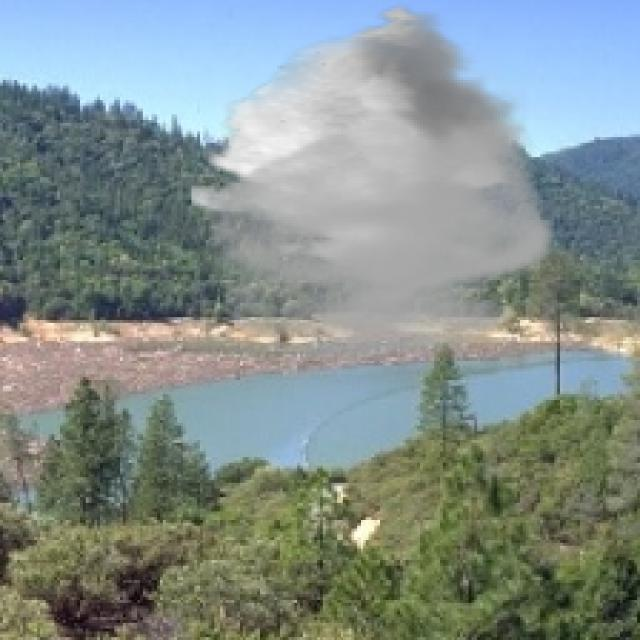Smoke: (191, 3, 560, 363)
